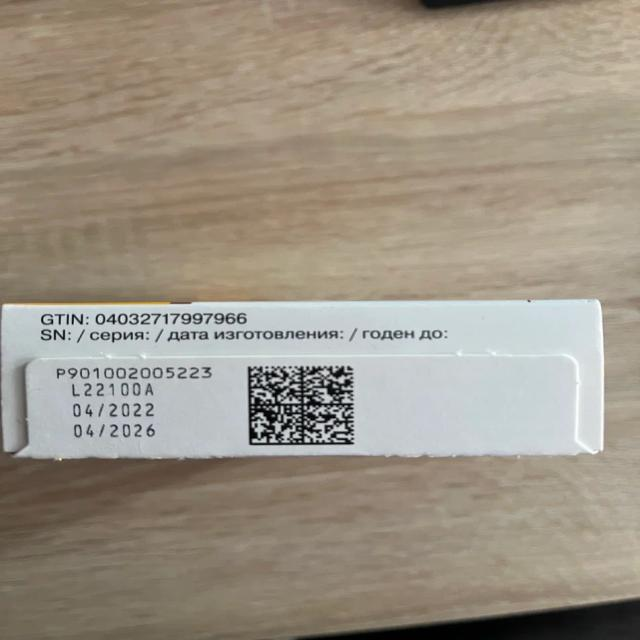datamatrix: (246, 362, 360, 449)
